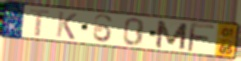0: (122, 17, 146, 47)
6: (92, 14, 115, 45)
F: (185, 21, 217, 53)
K: (55, 10, 79, 41)
M: (154, 19, 190, 51)
T: (28, 8, 51, 38)
